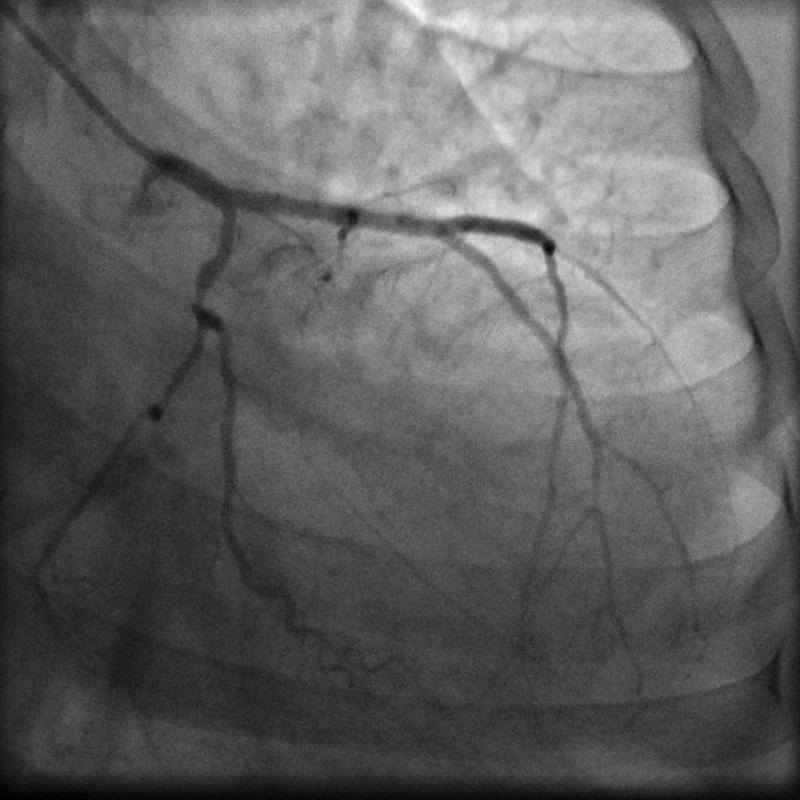Stenosis: (180, 272, 225, 317)
